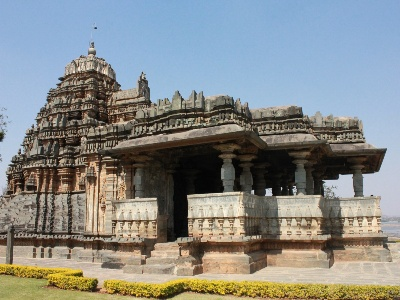amalaka: (44, 44, 127, 86)
gopuram: (15, 72, 131, 195)
mandapa: (118, 125, 274, 215), (293, 134, 387, 214)
